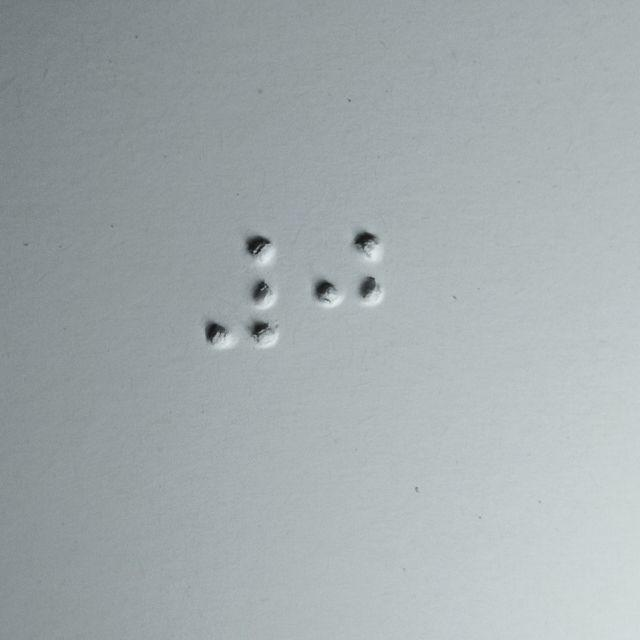0: (312, 230, 385, 344)
number: (205, 236, 278, 349)
